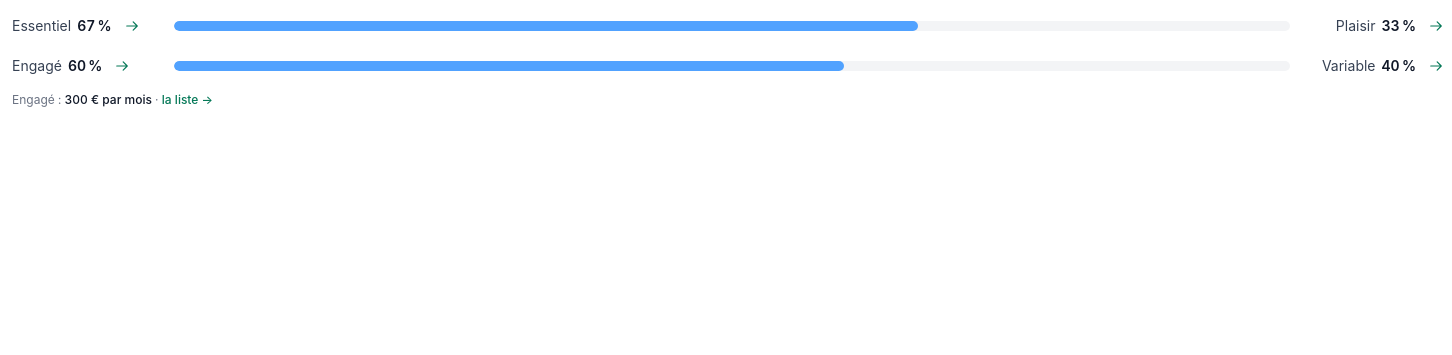
Test: StructureLines › unfolding a segment › lists the composition of the reading
This screenshot has width=1452, height=355.
What coordinates should you click on to do the following:
click the button "Plaisir 33 %"
I would click on:
 (1376, 26)
Its box is x1=1336 y1=12 x2=1416 y2=40.
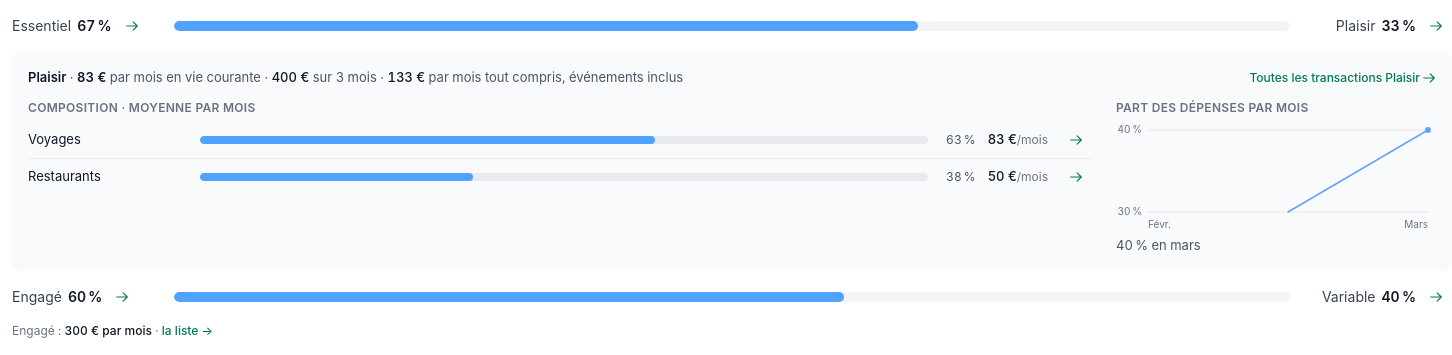
Expected: the list item with test id "structure-panel-row-Voyages" is shown, x1=28 y1=122 x2=1092 y2=158
